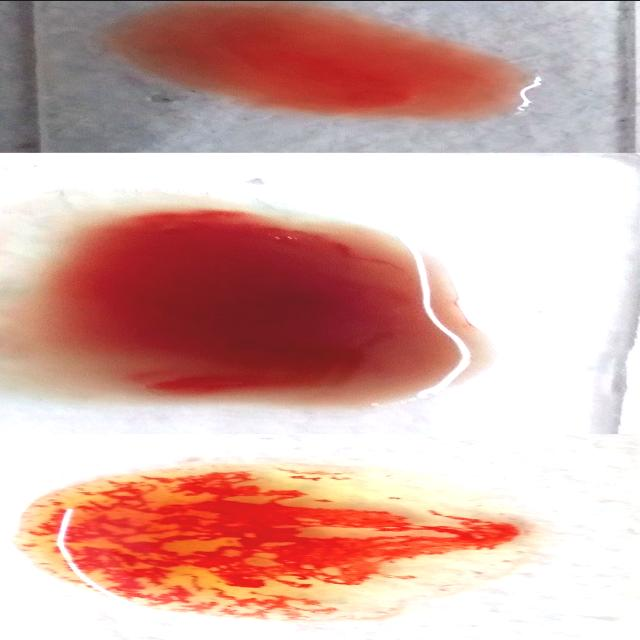B: (12, 458, 550, 628)
